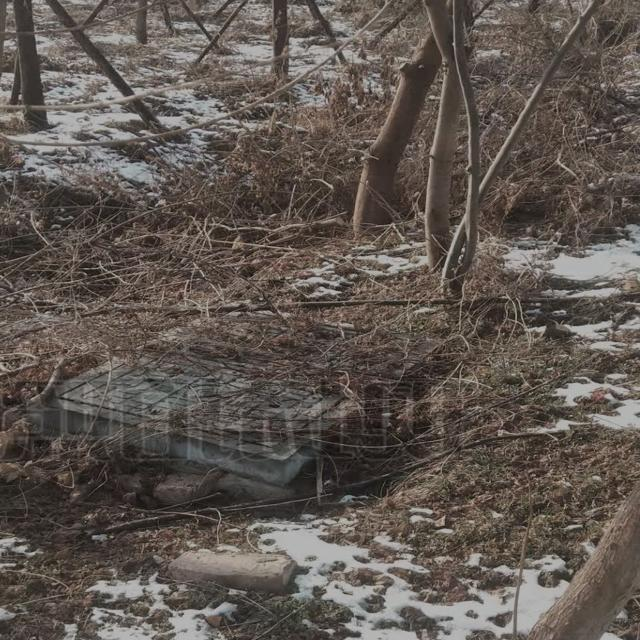circle: (22, 300, 442, 493)
